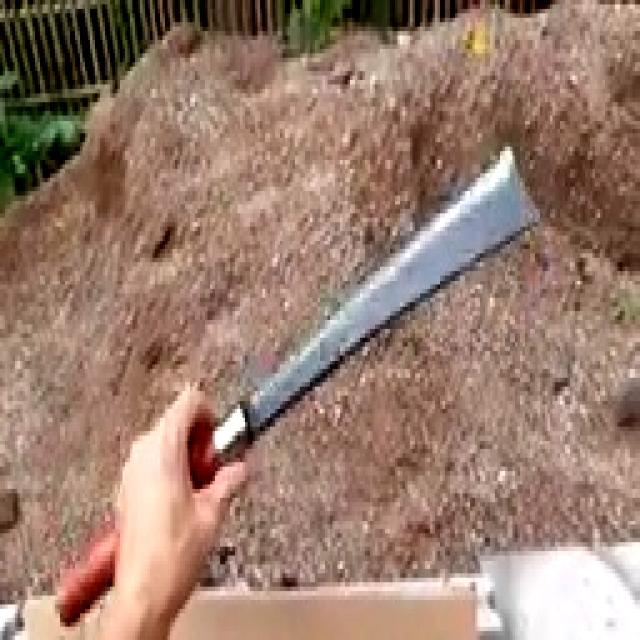eto: (58, 156, 538, 627)
